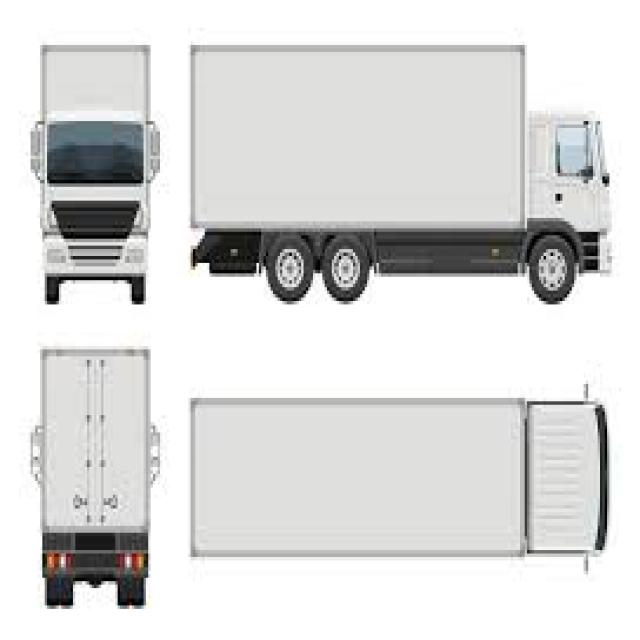truck: (187, 39, 613, 308), (188, 394, 610, 560), (37, 39, 152, 308), (39, 345, 148, 612)
